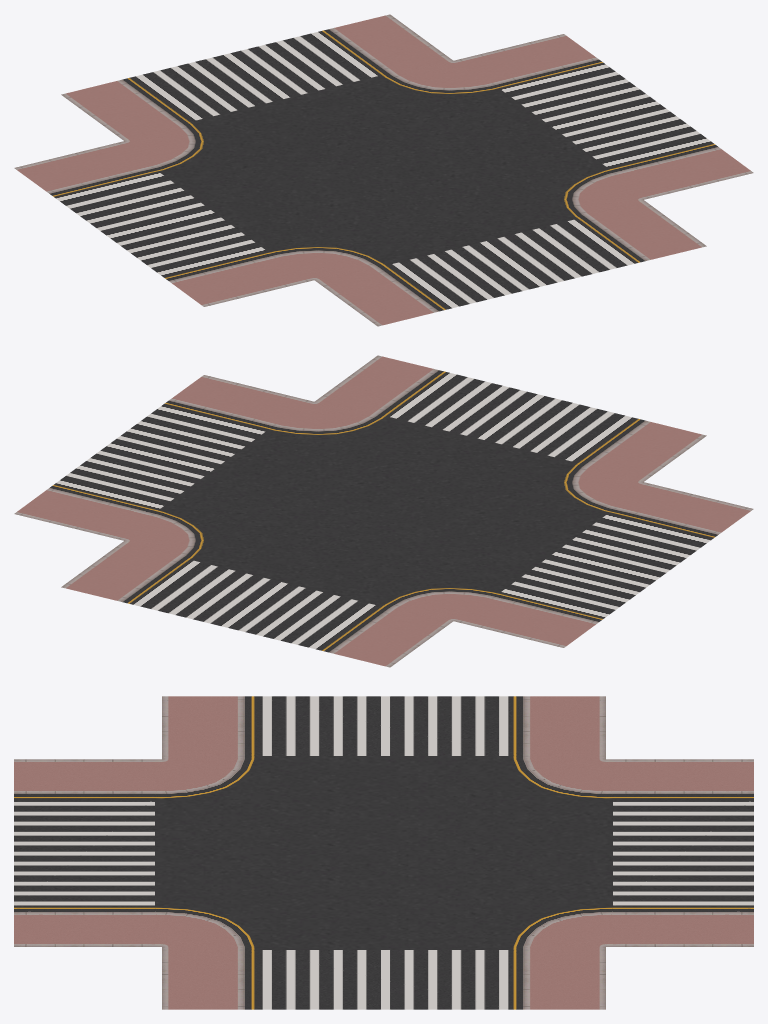
Rendered from jy_daolu01.FBX.
3 renders of one model, top to bottom at view 1: azimuth 30°, elevation 25°; view 2: azimuth 150°, elevation 25°; view 3: azimuth 270°, elevation 25°, orthographic. The views are drawn at different scales.
Parts seen in each view (by area): view 1: jy_daolu01; view 2: jy_daolu01; view 3: jy_daolu01.
Part boxes in pixels (x1,y1,x2,y2): jy_daolu01: (14, 14, 753, 326); jy_daolu01: (14, 355, 753, 667); jy_daolu01: (14, 696, 753, 1009).
Size of the model in its own units: 4356 by 1.08 by 4347.
